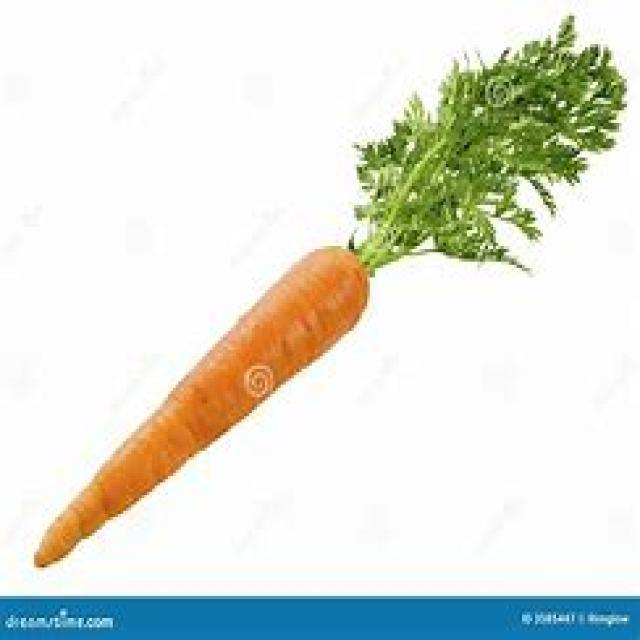carrot: (33, 247, 372, 571)
